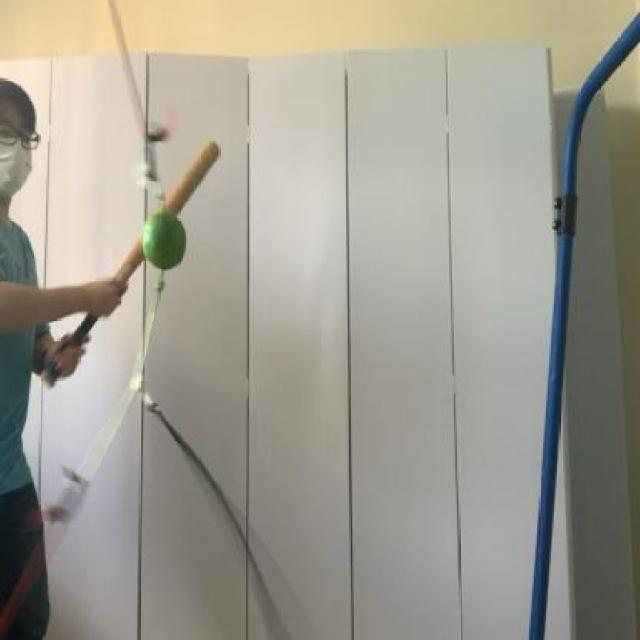baseball: (144, 208, 196, 281)
